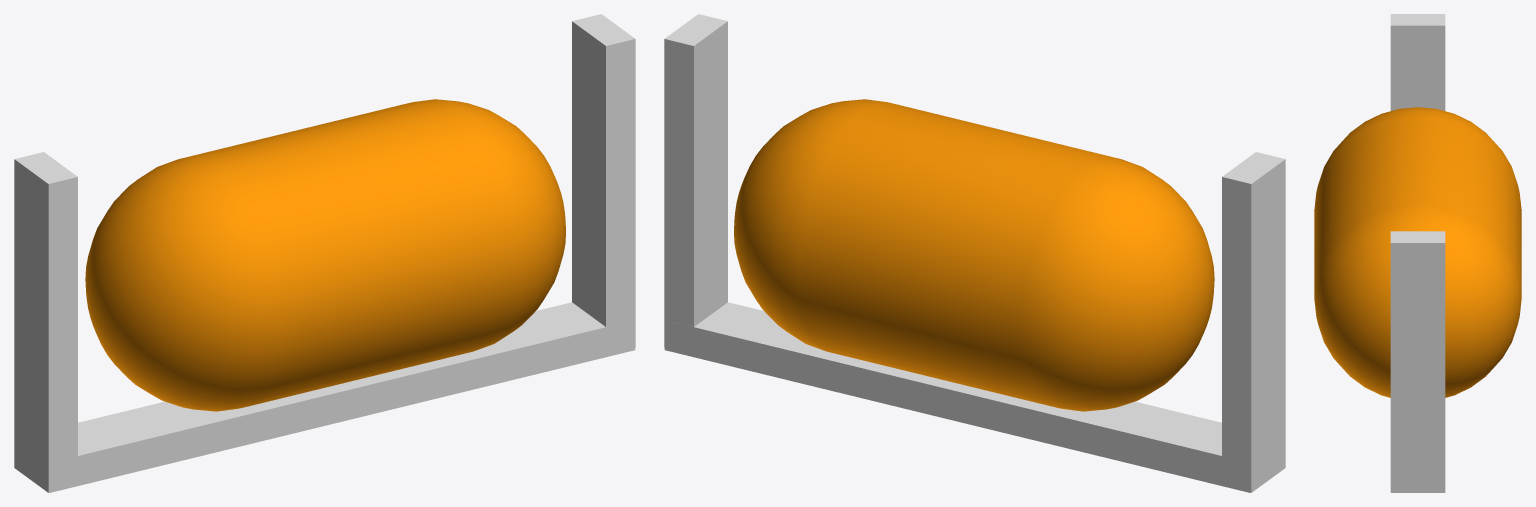
Rendered from block_shielded.glb.
The picture shows the model from 3 angles, left to right: view 1: azimuth 30°, elevation 25°; view 2: azimuth 150°, elevation 25°; view 3: azimuth 270°, elevation 25°; orthographic projection. The views are drawn at different scales.
Visible parts, largest first — view 1: Cube.001; view 2: Cube.001; view 3: Cube.001.
Part boxes in pixels (bbox=[...]): Cube.001: bbox=[14, 14, 635, 492]; Cube.001: bbox=[664, 14, 1285, 492]; Cube.001: bbox=[1314, 14, 1521, 492].
Bounding box in the file's own units: 1.99 × 1.01 × 0.7568.
